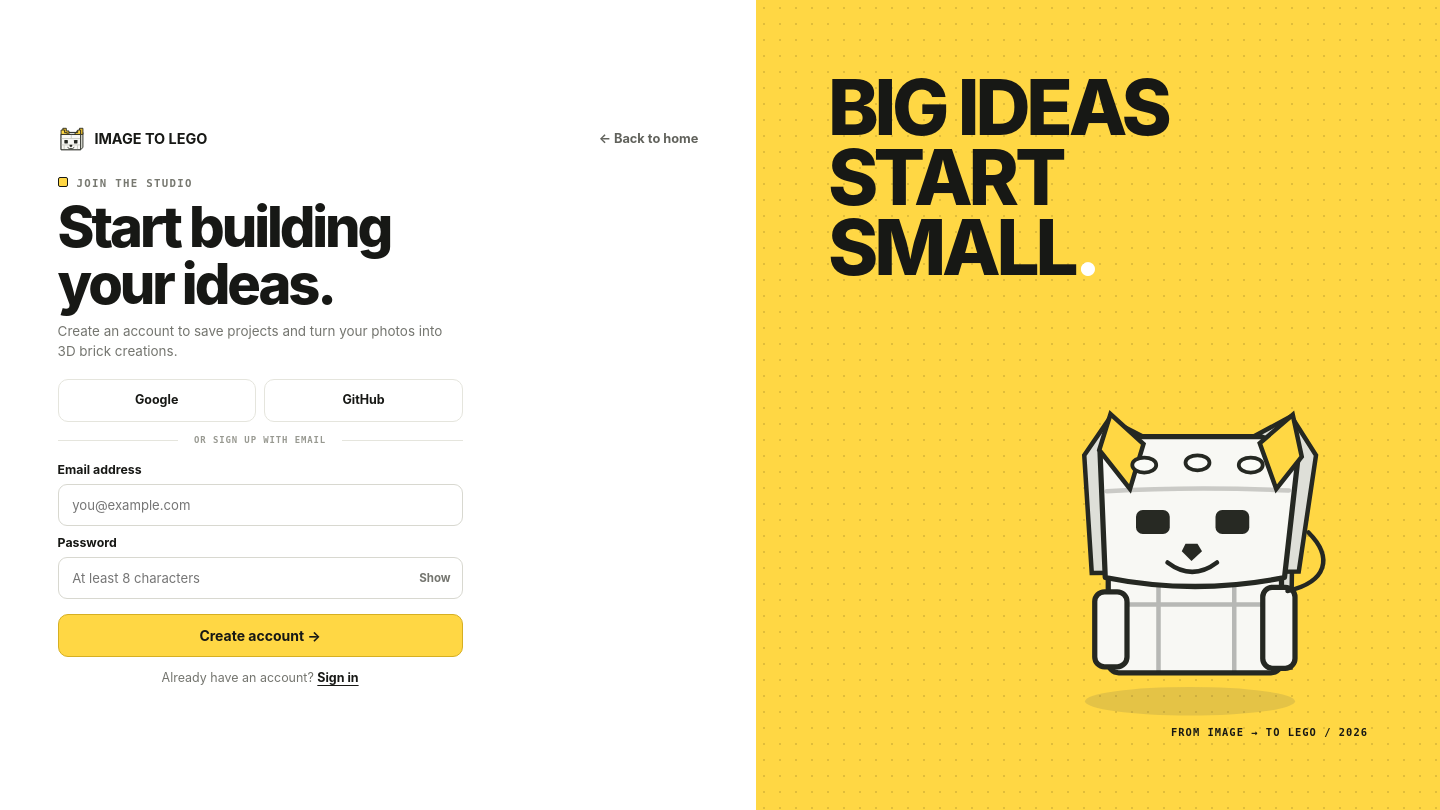
it: App › starts email sign-up and shows email confirmation
This screenshot has width=1440, height=810.
Type "new@example.com" into the field labelled "Email address".
click(260, 505); type("new@example.com")  # box [58,484,463,526]
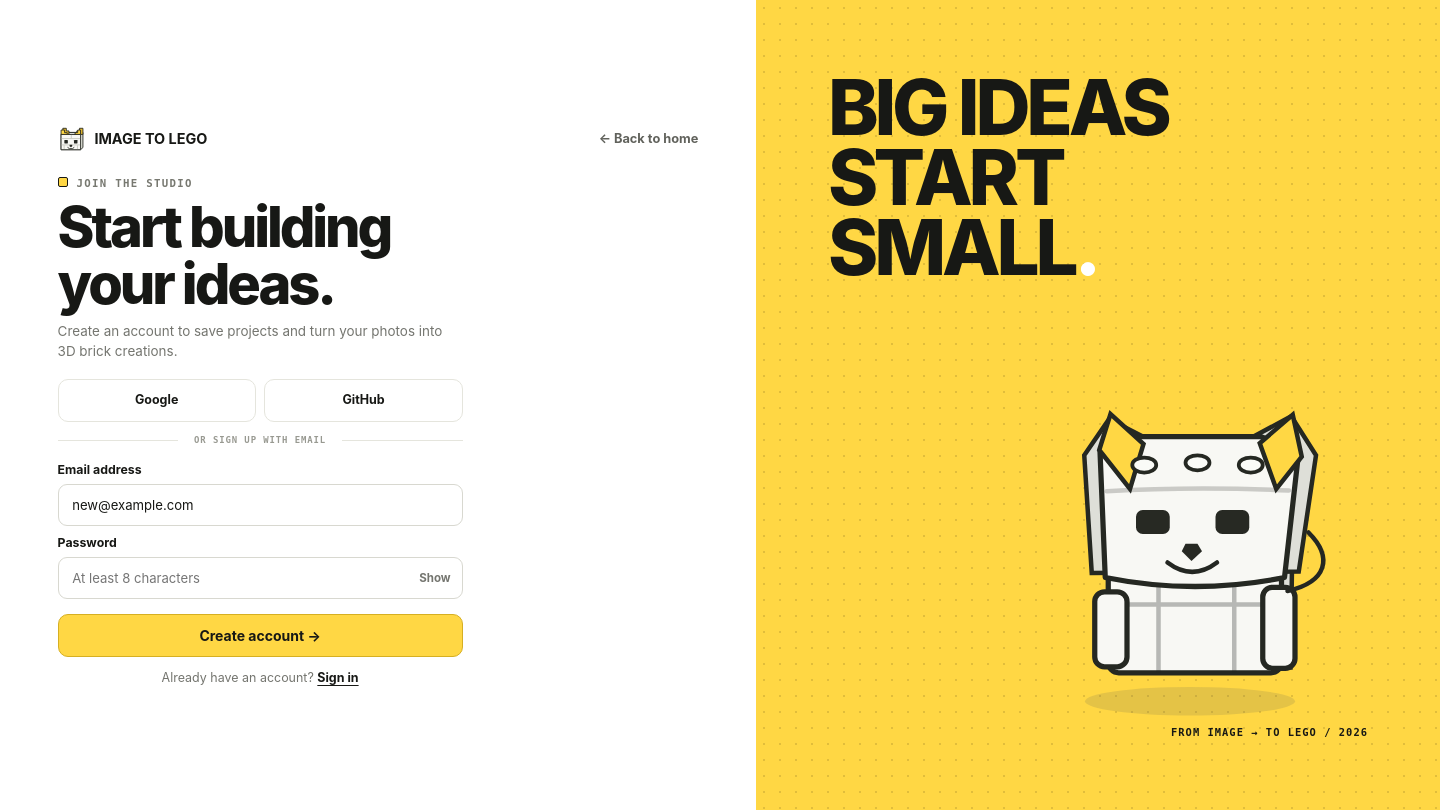
Type "safe-password" into the password field labelled "Password".
click(260, 578); type("safe-password")  # box [58,557,463,599]
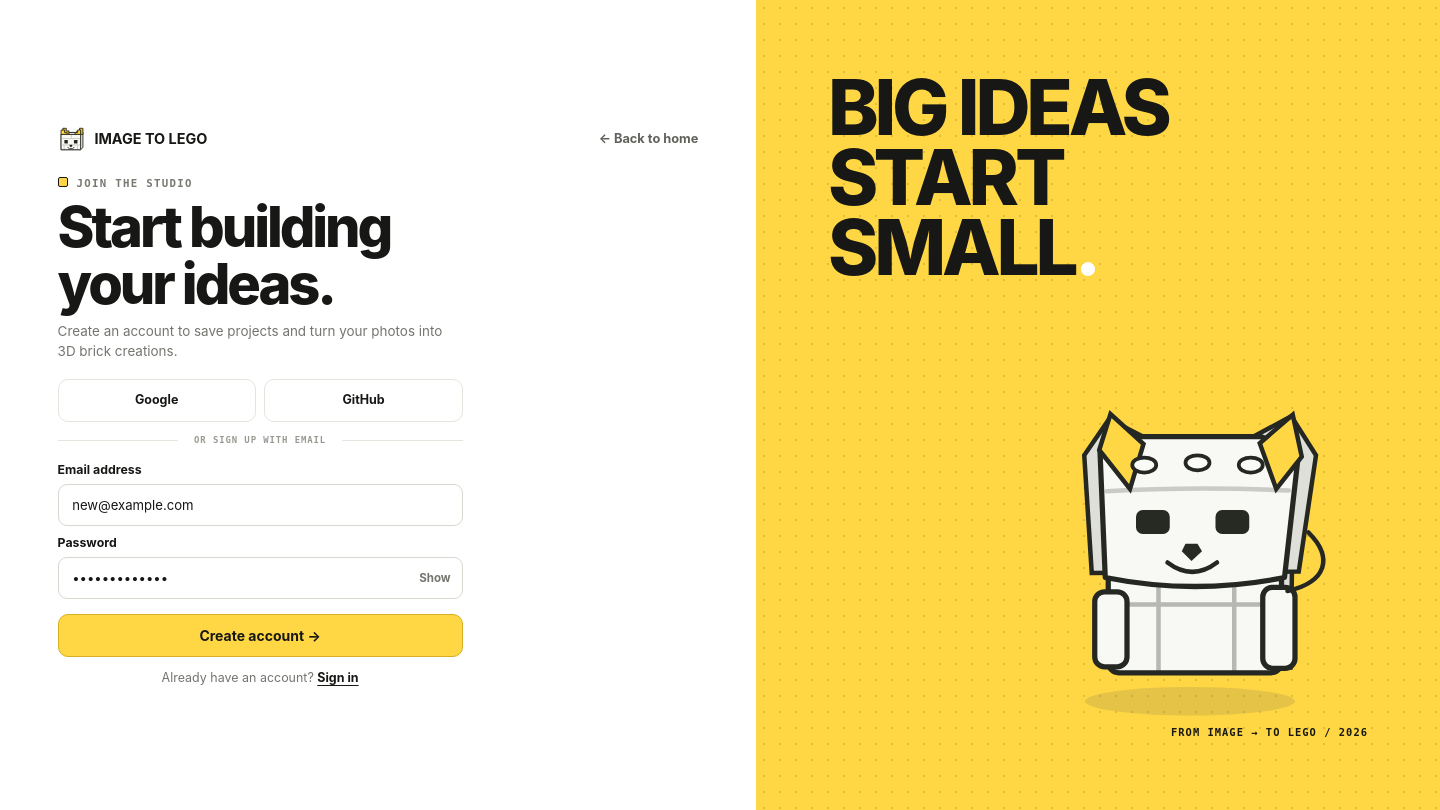
Click the button "Create account →".
click(260, 636)  # box [58,614,463,658]
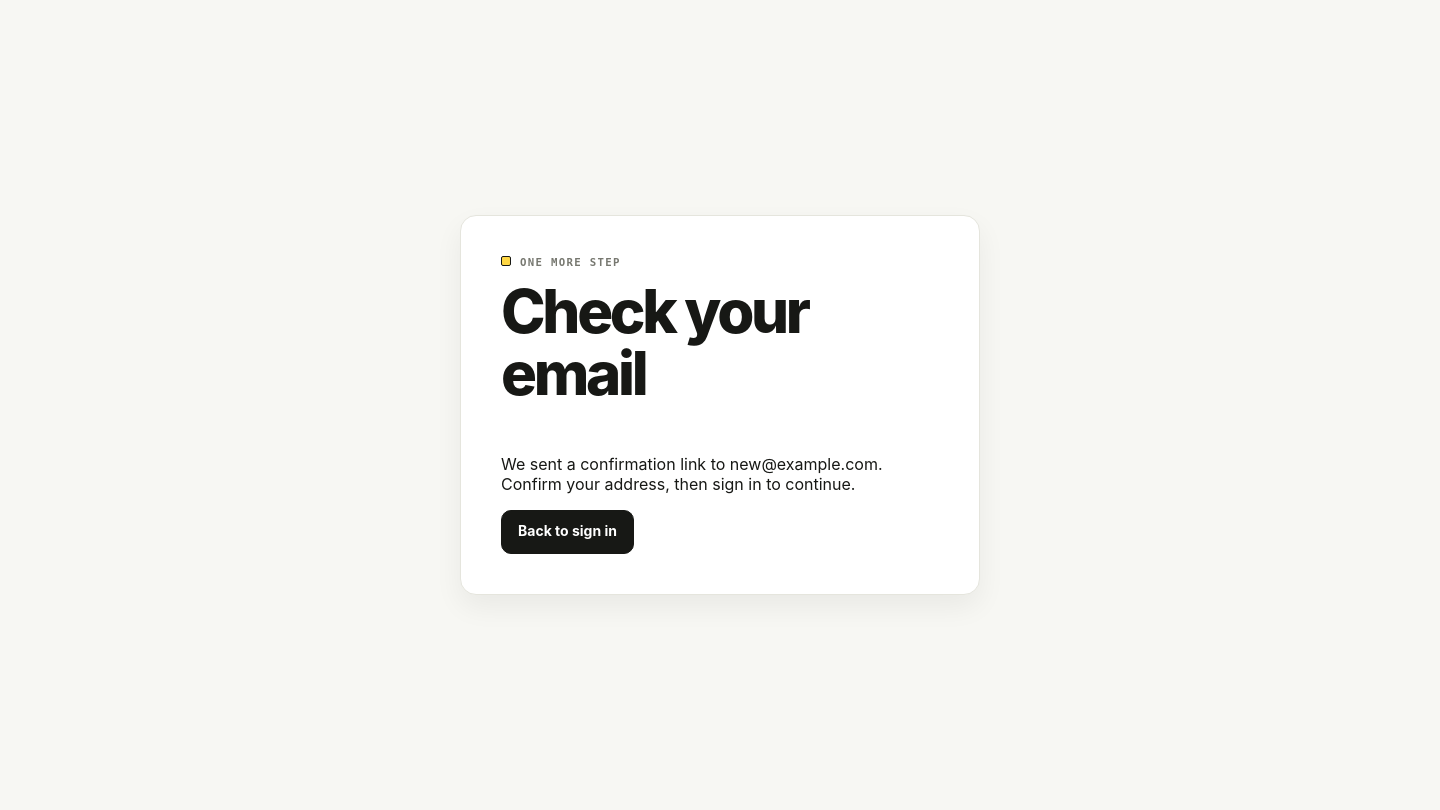
Expected: the heading "Check your email" is shown, [501,275,808,409]
